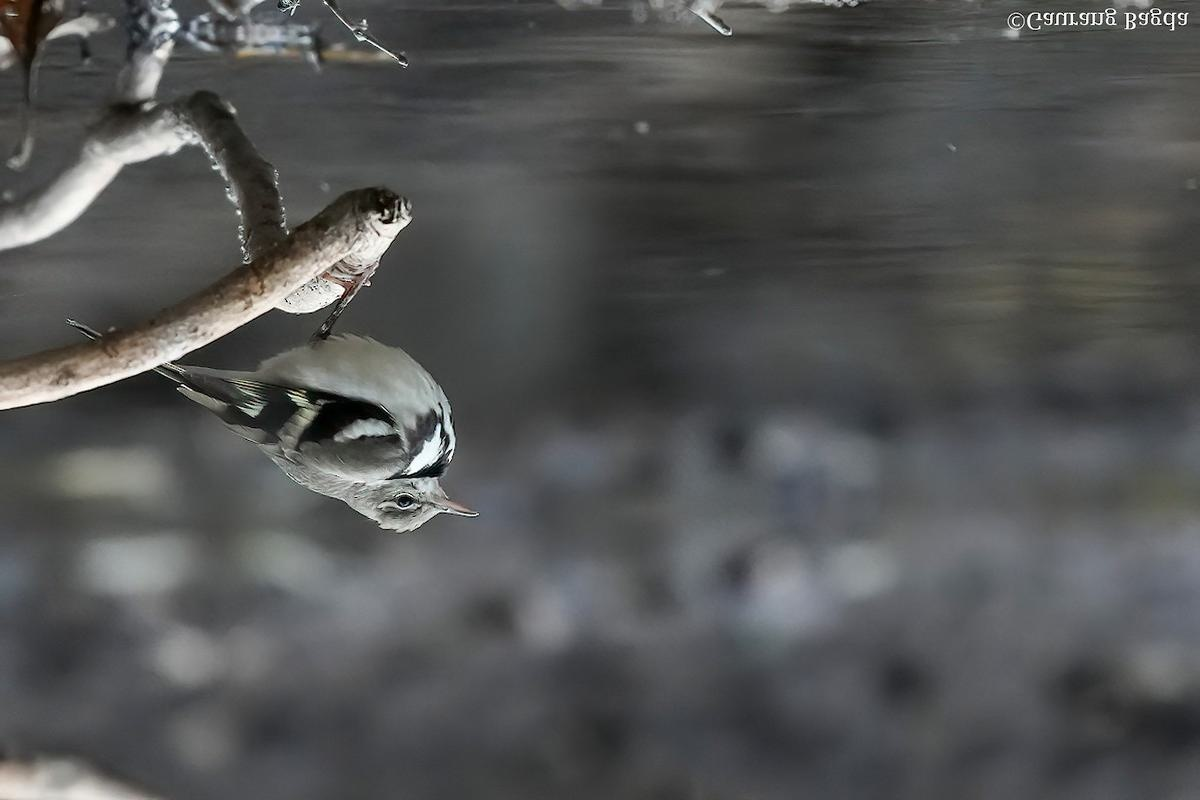wagtail: (169, 283, 475, 544)
